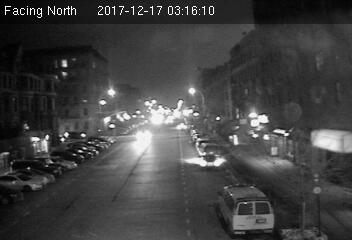car: (198, 153, 224, 171)
police: (211, 181, 279, 238)
